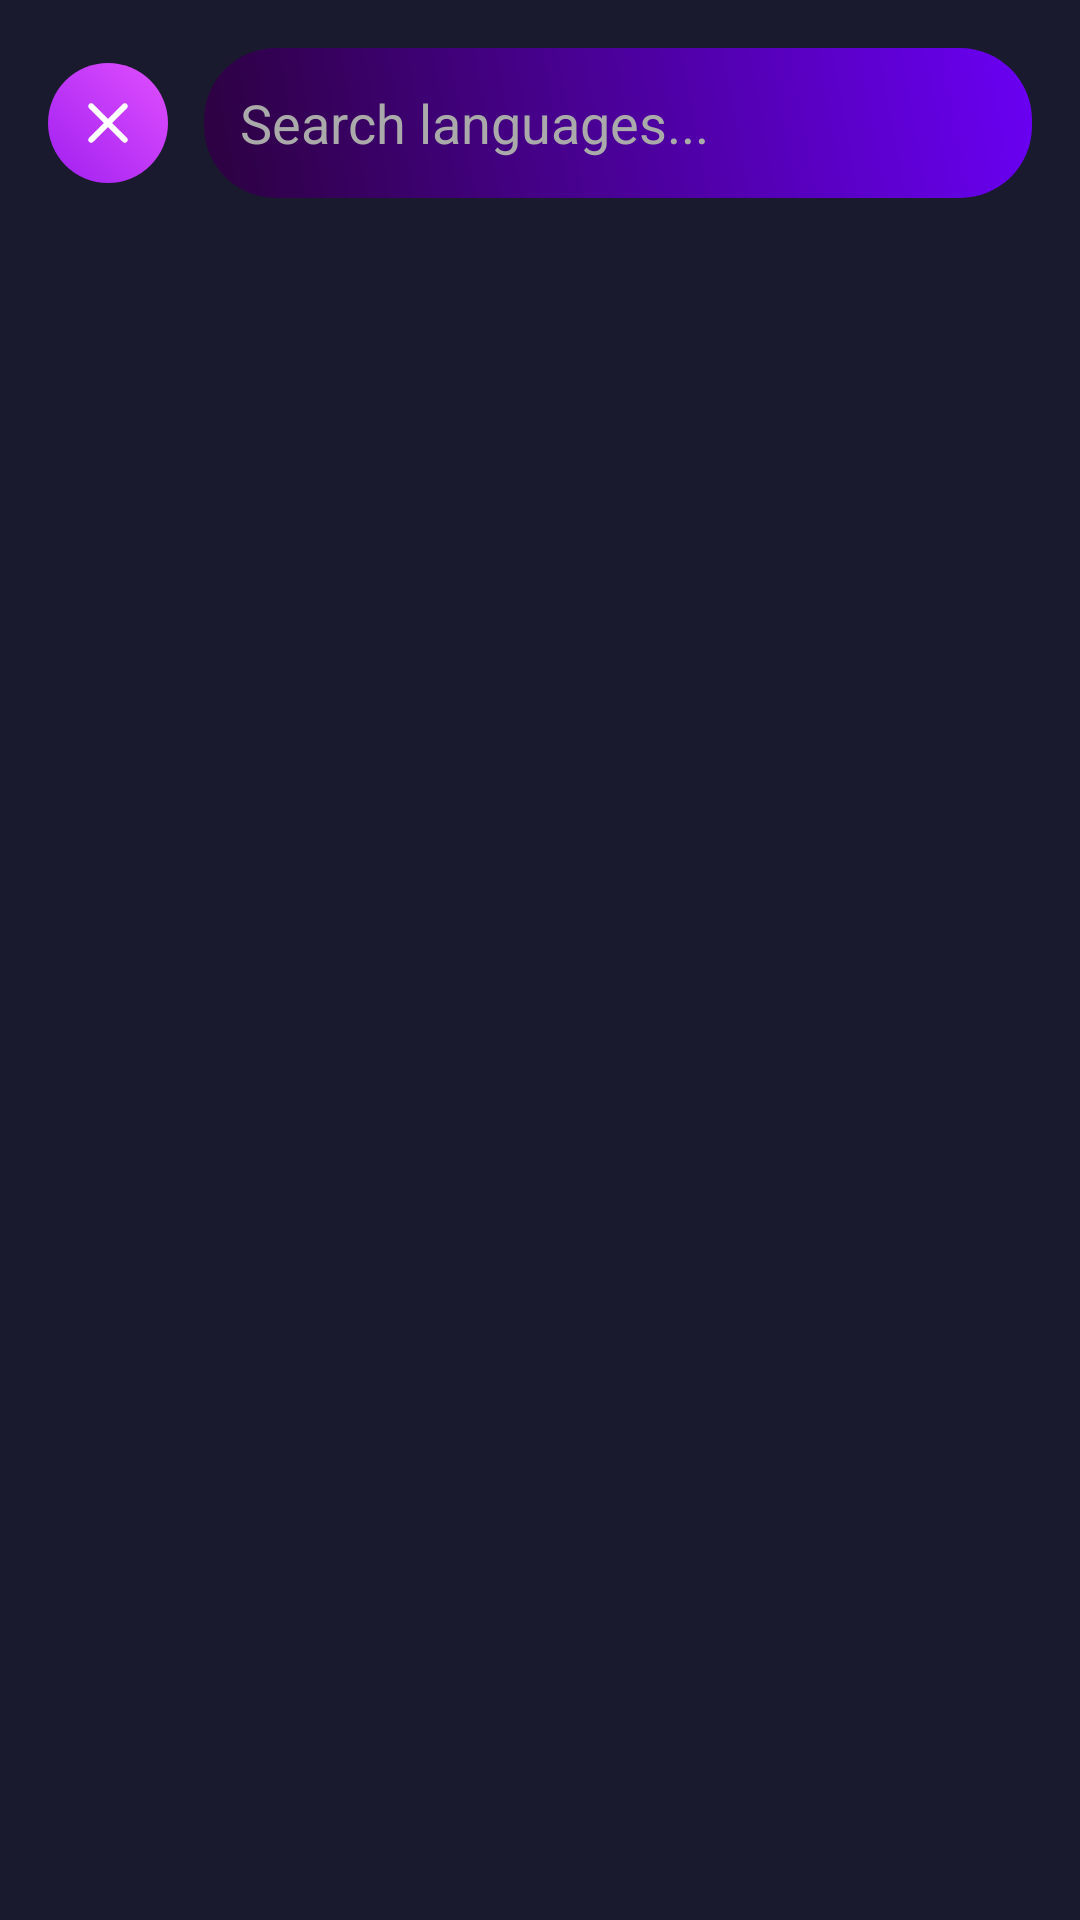

Screen size 1080px×1920px. Icon name, then its box in pixels as [left=x1, top=y1, right=x2, bottom=y2]:
Close: [left=48, top=63, right=168, bottom=183]
